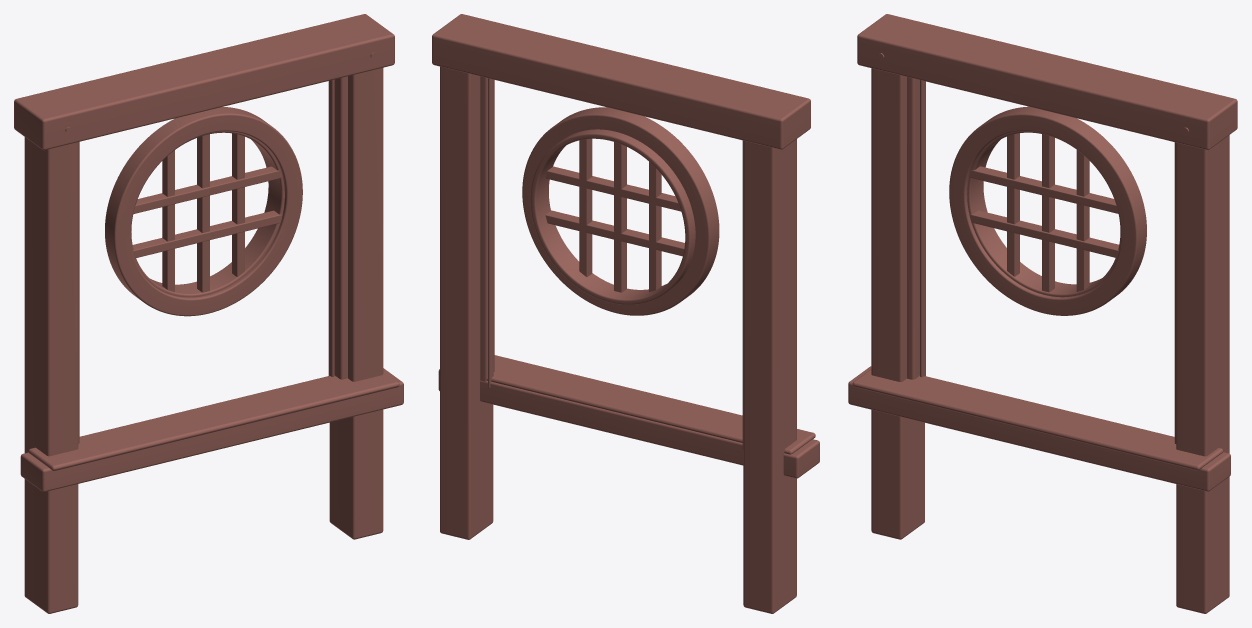
Rendered from window-timber-input.glb.
3 views of the same model, side by side, from view 1: azimuth 30°, elevation 25°; view 2: azimuth 150°, elevation 25°; view 3: azimuth 330°, elevation 25° (orthographic).
Visible parts, largest first — view 1: Rooftop window timber; view 2: Rooftop window timber; view 3: Rooftop window timber.
Boxes of the visible parts, x1,y1,x2,y2 form: Rooftop window timber: [14, 14, 403, 613]; Rooftop window timber: [432, 14, 819, 613]; Rooftop window timber: [848, 14, 1237, 613].
Bounding box in the file's own units: 2.8 × 3.7 × 0.498.
